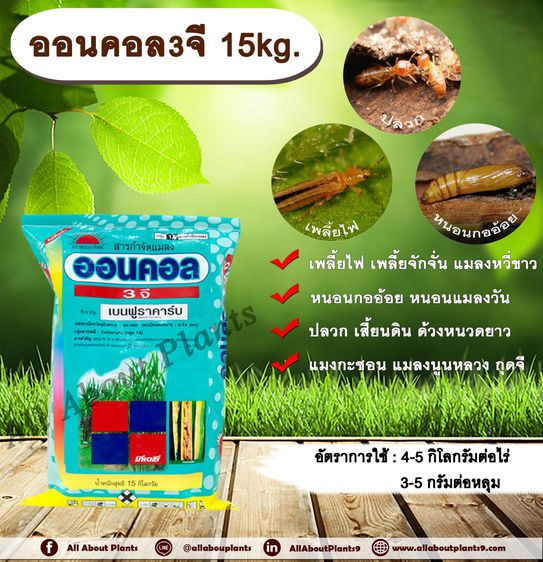Insecticide: (15, 209, 251, 521)
